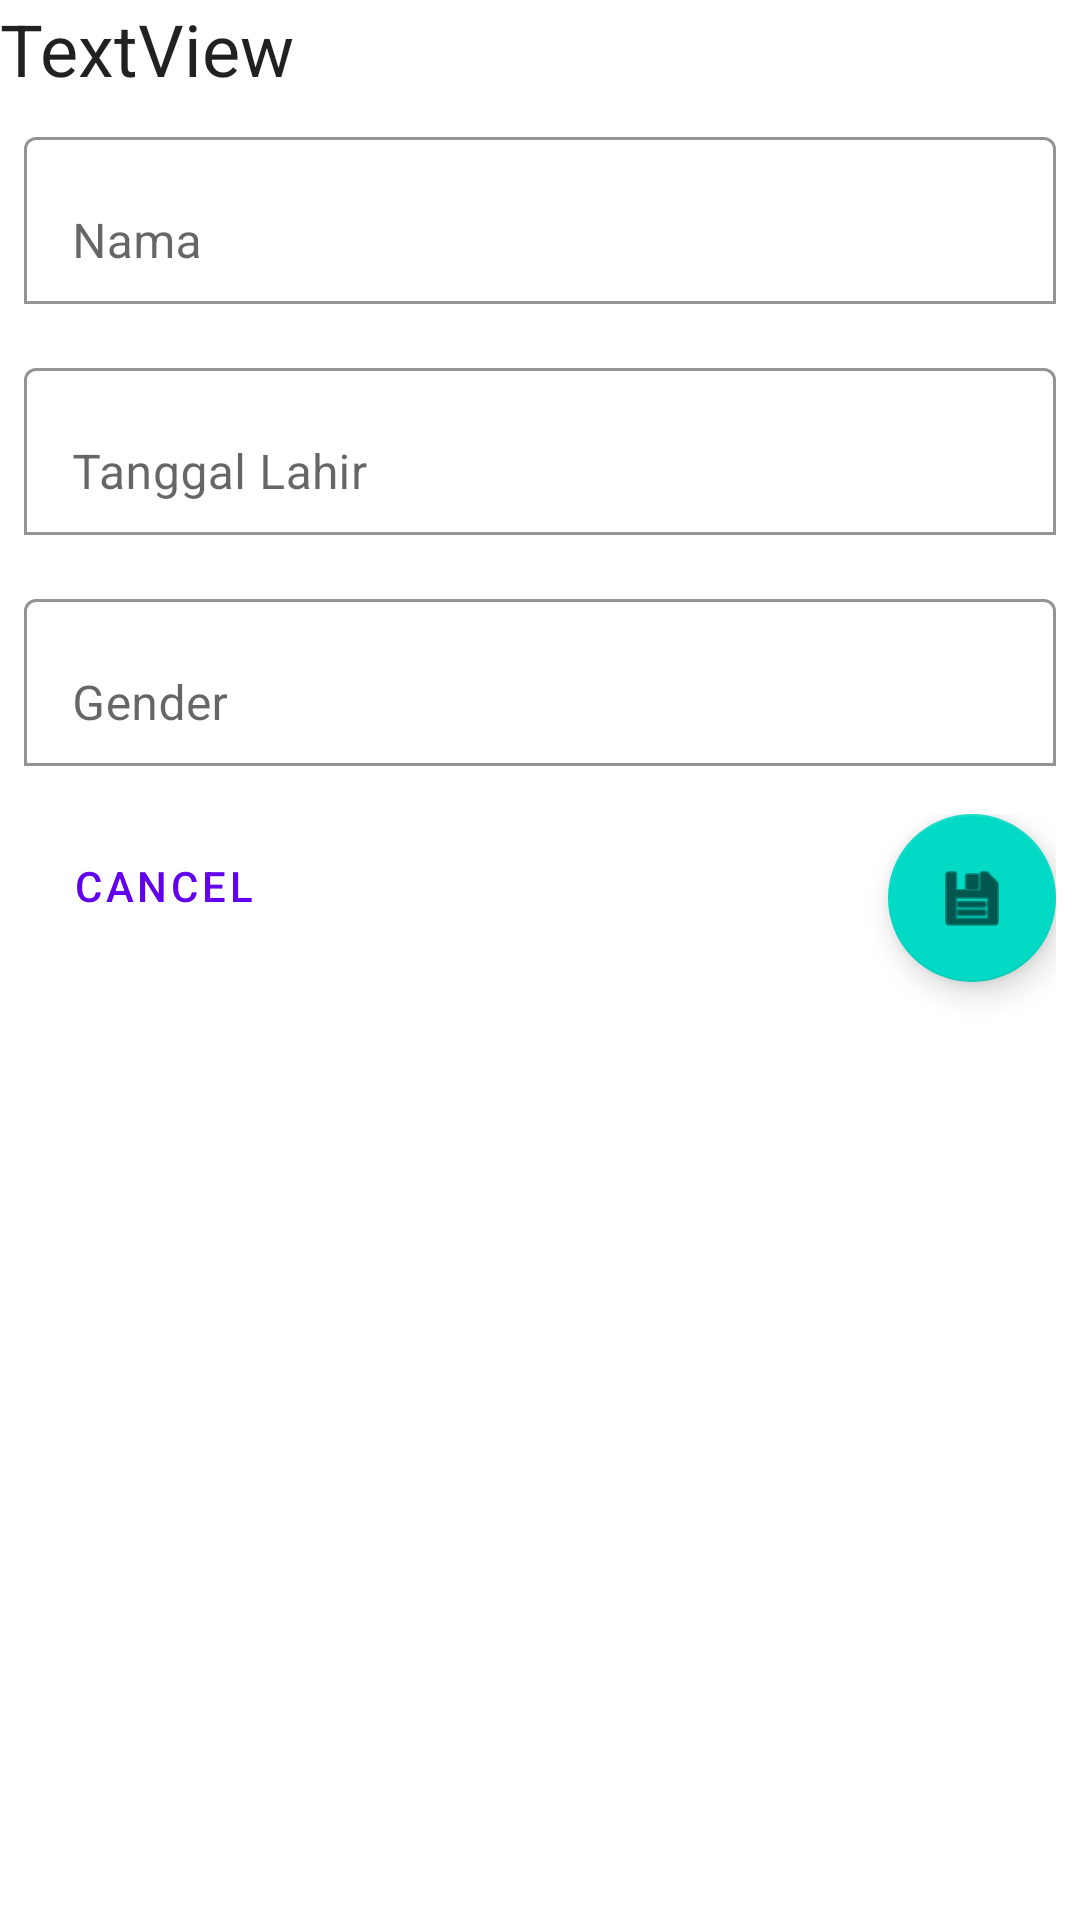

Named icons in this screenshot (1080x1920) and their bounding boxes, (x1, y1, x2, y2):
save: (888, 814, 1056, 982)
